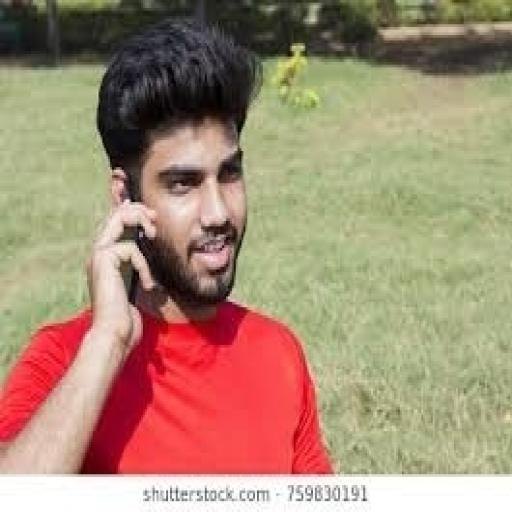calling: (0, 14, 338, 474)
